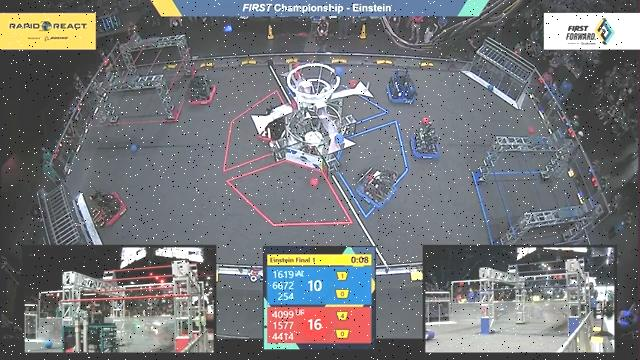Robot: (83, 183, 131, 231), (352, 165, 400, 210), (253, 100, 294, 150), (406, 120, 446, 165), (384, 64, 423, 109), (183, 69, 221, 107)
